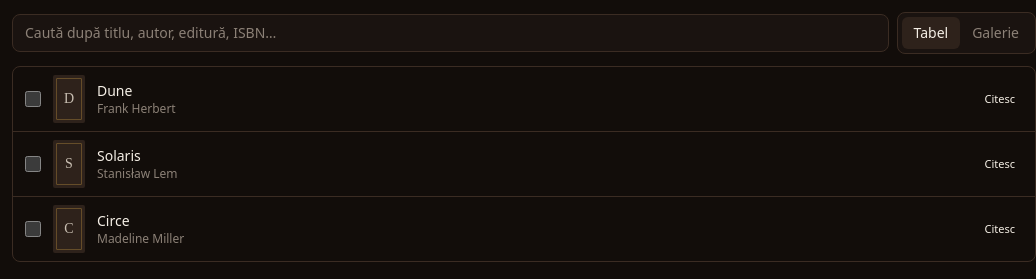
Test case: BookSelector › shows an empty message instead of an empty list when nothing matches
The width and height of the screenshot is (1036, 279).
Expected: the text "Dune" is shown, [97, 81, 132, 100]
Type "zzz-nimic" into the search field named "Caută cărți".
click(450, 33); type("zzz-nimic")  # box [12, 14, 888, 52]
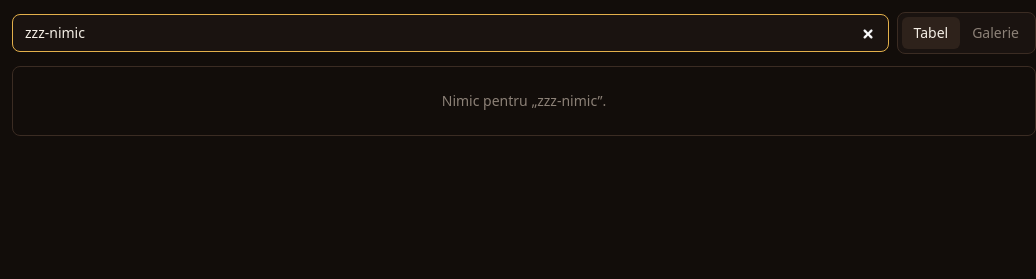
Expected: the text "Nimic pentru „zzz-nimic”." is shown, [12, 66, 1035, 136]
